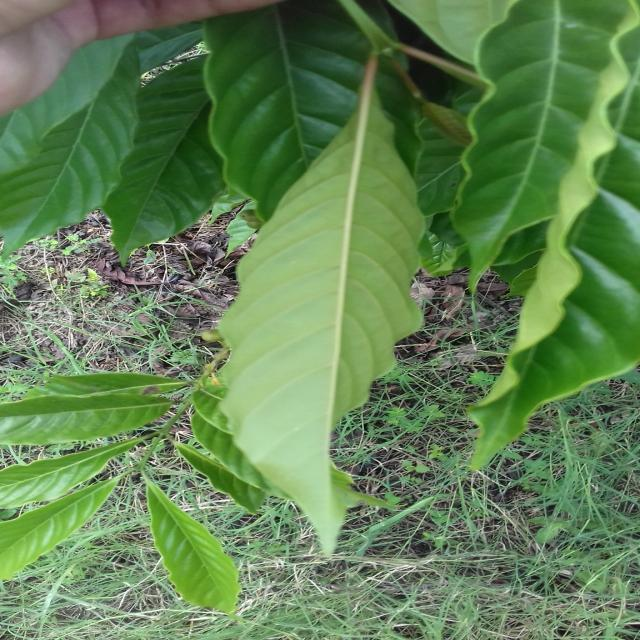Sanas: (191, 57, 427, 557)
